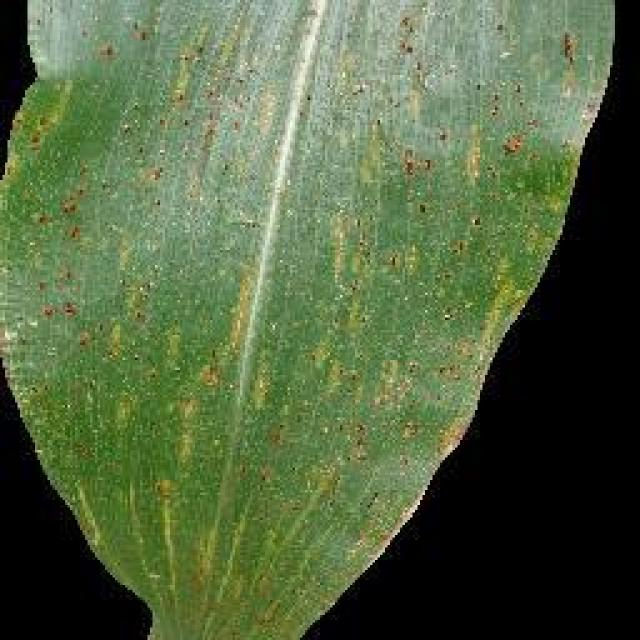Corn Common Rust: (188, 8, 484, 562)
